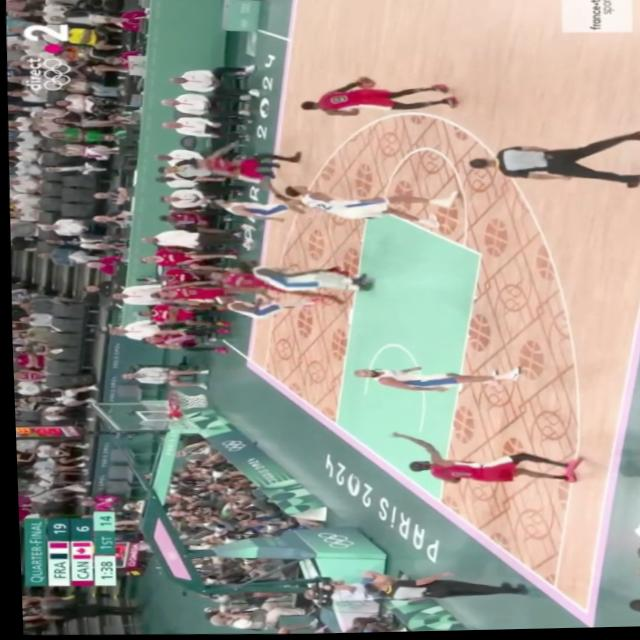ball_handler: (298, 75, 456, 119)
